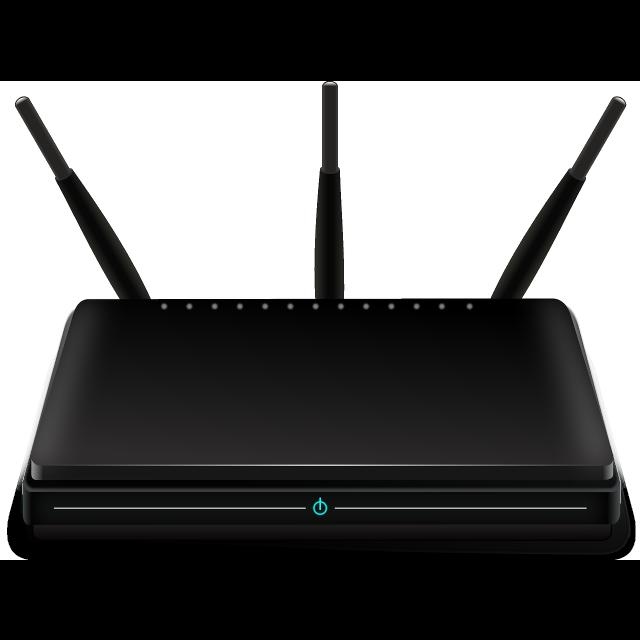Router: (6, 80, 637, 559)
